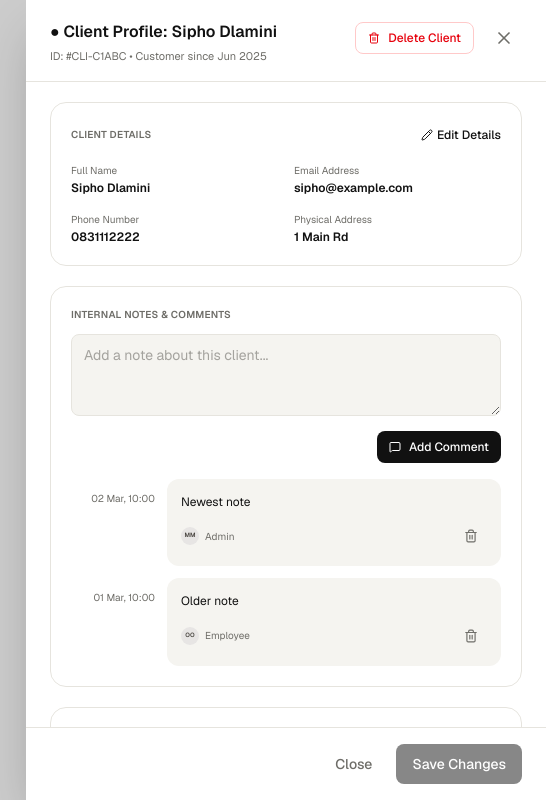
internal notes › shows the API error when deleting a note fails
Expected: the heading "● Client Profile: Sipho Dlamini" is shown, [50, 20, 277, 44]
Click the button named "Delete note" in the row of "Admin" at (471, 536), box [455, 520, 487, 552]
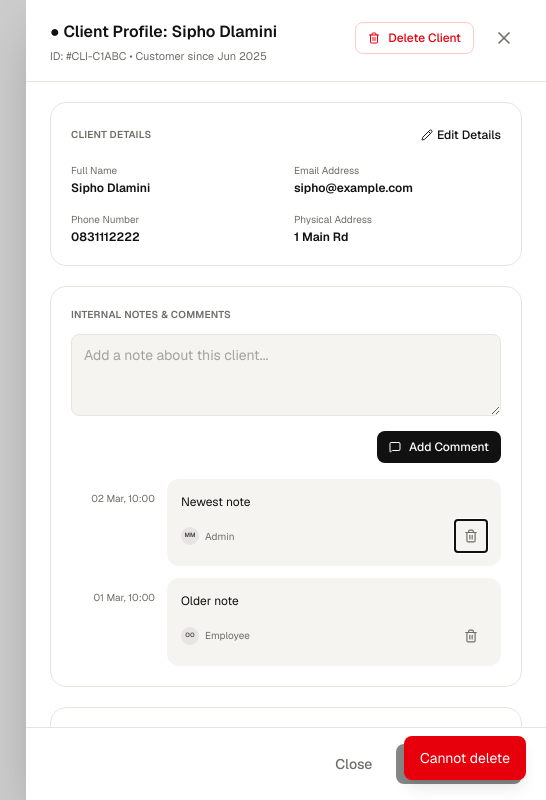
Expected: the text "Cannot delete" is shown, [404, 736, 526, 780]
